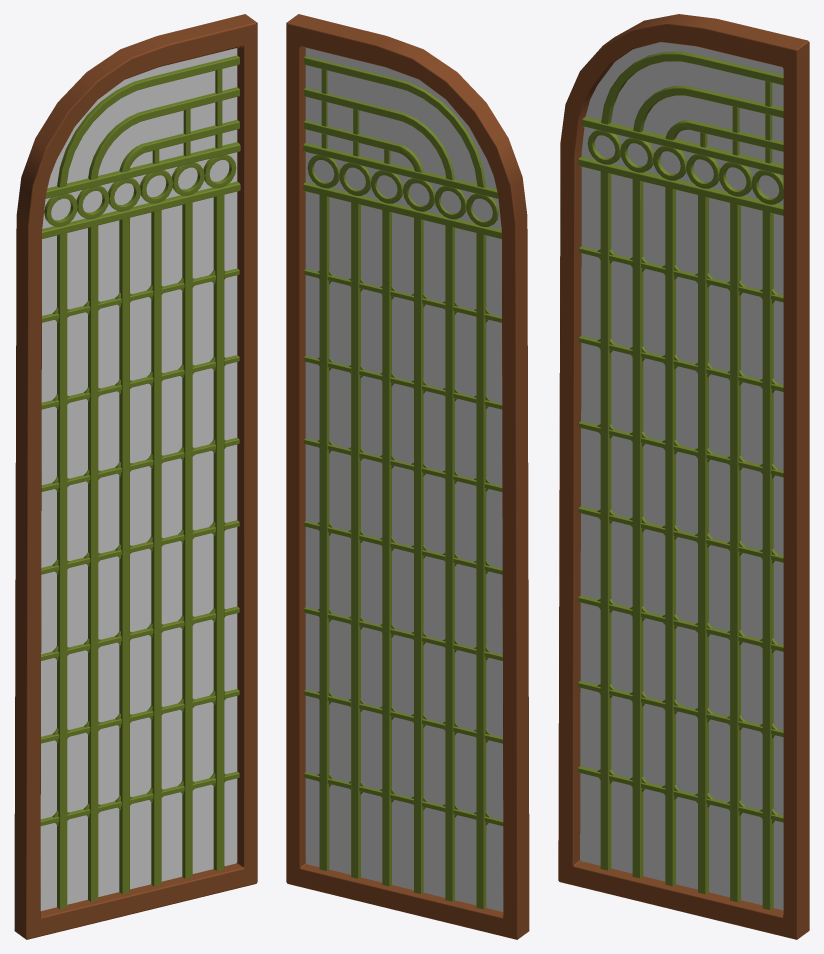
The model's file is M_Serre_Door.fbx.
3 renders of one model, left to right at view 1: azimuth 30°, elevation 25°; view 2: azimuth 150°, elevation 25°; view 3: azimuth 330°, elevation 25°, orthographic. The views are drawn at different scales.
Visible parts, largest first — view 1: HouseDoor_JdP_Low.001, Plane; view 2: HouseDoor_JdP_Low.001, Plane; view 3: HouseDoor_JdP_Low.001, Plane.
Part boxes in pixels (bbox=[...]): HouseDoor_JdP_Low.001: bbox=[14, 14, 257, 939]; Plane: bbox=[40, 48, 237, 910]; HouseDoor_JdP_Low.001: bbox=[286, 14, 529, 939]; Plane: bbox=[305, 48, 503, 911]; HouseDoor_JdP_Low.001: bbox=[558, 14, 809, 939]; Plane: bbox=[580, 42, 783, 910].
Bounding box in the file's own units: 396 × 1403 × 36.62.
